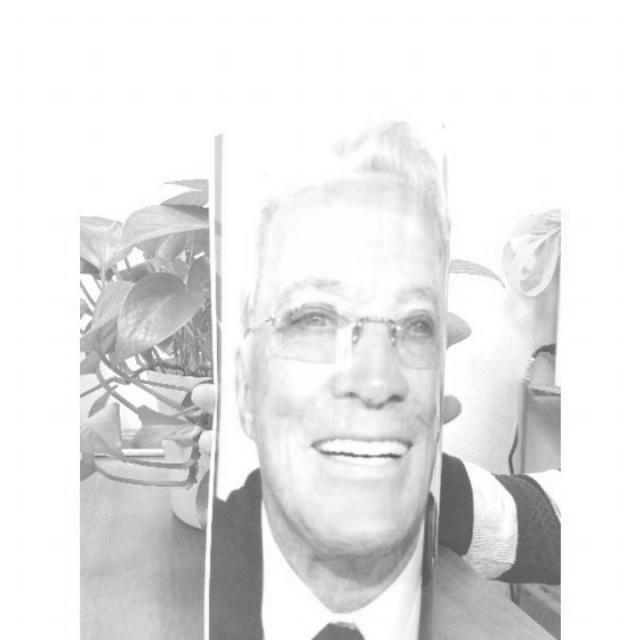fake: (174, 95, 478, 639)
